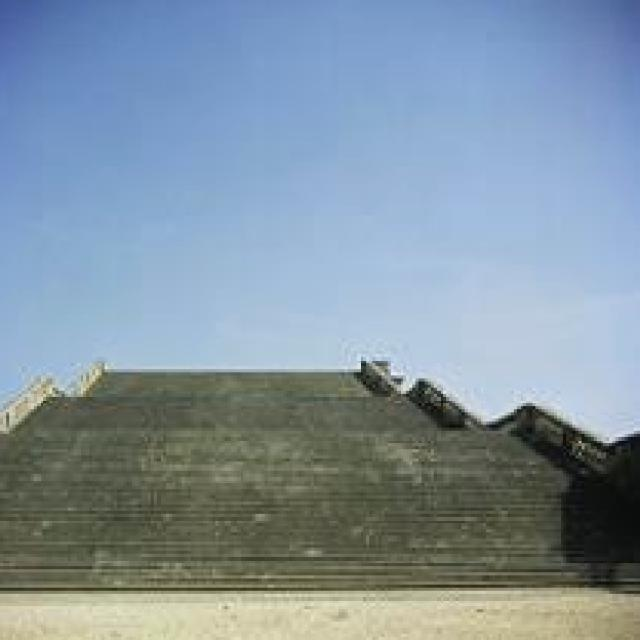upstair: (26, 392, 521, 579)
